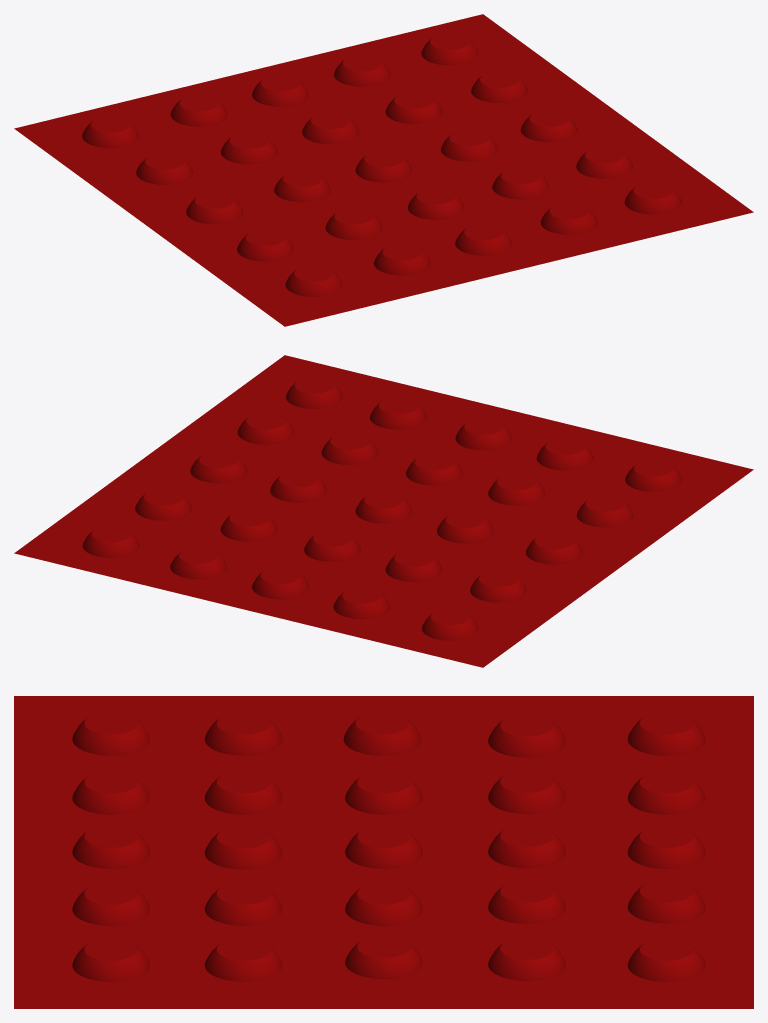
The model's file is PisoPare.FBX.
3 views of the same model, one above another, from view 1: azimuth 30°, elevation 25°; view 2: azimuth 150°, elevation 25°; view 3: azimuth 270°, elevation 25° (orthographic). The views are drawn at different scales.
Visible parts, largest first — view 1: Plane001, Sphere013, Sphere005, Sphere020, Sphere006, Sphere022, Sphere023, Sphere001, Sphere008, Sphere019, Sphere007, Sphere011 (+14 smaller); view 2: Plane001, Sphere013, Sphere011, Sphere009, Sphere002, Sphere006, Sphere015, Sphere023, Sphere017, Sphere022, Sphere012, Sphere025 (+14 smaller); view 3: Plane001, Sphere007, Sphere010, Sphere002, Sphere005, Sphere006, Sphere012, Sphere001, Sphere011, Sphere021, Sphere024, Sphere014 (+14 smaller).
Boxes of the visible parts, bbox=[...] form: Plane001: bbox=[14, 14, 753, 326]; Sphere013: bbox=[355, 150, 412, 182]; Sphere005: bbox=[421, 33, 478, 65]; Sphere020: bbox=[170, 94, 227, 126]; Sphere006: bbox=[540, 202, 597, 234]; Sphere022: bbox=[237, 229, 293, 261]; Sphere023: bbox=[186, 192, 242, 224]; Sphere001: bbox=[624, 182, 681, 214]; Sphere008: bbox=[441, 129, 497, 161]; Sphere019: bbox=[220, 132, 277, 164]; Sphere007: bbox=[492, 167, 549, 199]; Sphere011: bbox=[455, 223, 511, 255]; Plane001: bbox=[14, 355, 753, 667]; Sphere013: bbox=[355, 491, 412, 523]; Sphere011: bbox=[455, 418, 512, 450]; Sphere009: bbox=[220, 509, 277, 541]; Sphere002: bbox=[237, 412, 294, 444]; Sphere006: bbox=[370, 397, 426, 429]; Sphere015: bbox=[252, 567, 308, 599]; Sphere023: bbox=[526, 532, 582, 564]; Sphere017: bbox=[488, 473, 545, 505]; Sphere022: bbox=[576, 495, 633, 527]; Sphere012: bbox=[406, 453, 462, 485]; Sphere025: bbox=[422, 608, 478, 640]; Plane001: bbox=[14, 696, 753, 1008]; Sphere007: bbox=[204, 882, 282, 925]; Sphere010: bbox=[627, 879, 705, 923]; Sphere002: bbox=[204, 938, 282, 981]; Sphere005: bbox=[627, 938, 705, 981]; Sphere006: bbox=[72, 882, 149, 925]; Sphere012: bbox=[204, 825, 282, 869]; Sphere001: bbox=[72, 938, 149, 981]; Sphere011: bbox=[72, 825, 149, 868]; Sphere021: bbox=[72, 712, 149, 755]; Sphere024: bbox=[488, 714, 565, 757]; Sphere014: bbox=[488, 824, 565, 868].
Size of the model in its own units: 2000 by 47.69 by 2000.
